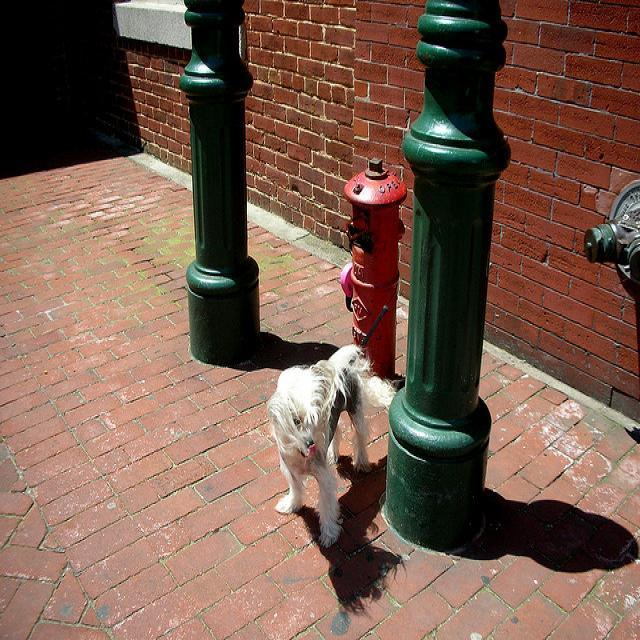fire_hydrant: (343, 153, 402, 370), (588, 180, 640, 291)
